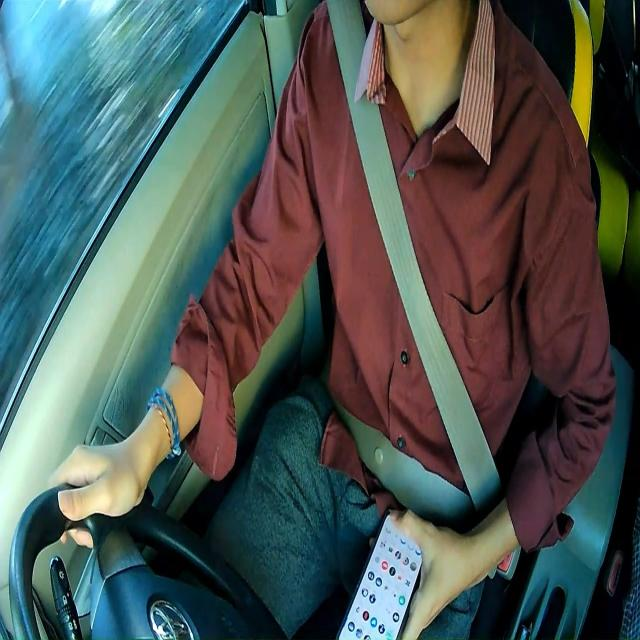phone: (338, 506, 422, 640)
